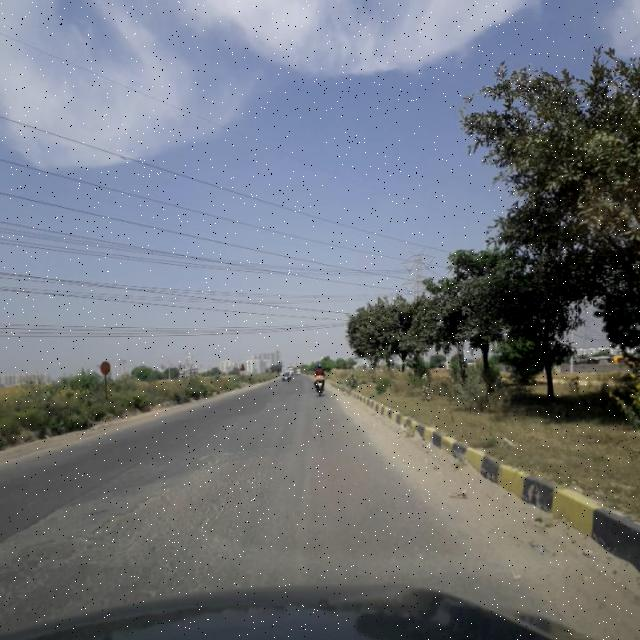D20: (1, 457, 265, 600)
D40: (30, 482, 171, 573)
